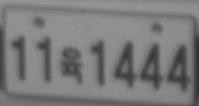1: (34, 36, 57, 82), (88, 39, 111, 85), (9, 34, 31, 80)
4: (166, 44, 192, 91), (139, 42, 164, 89), (113, 41, 138, 87)
육: (60, 46, 84, 84)
